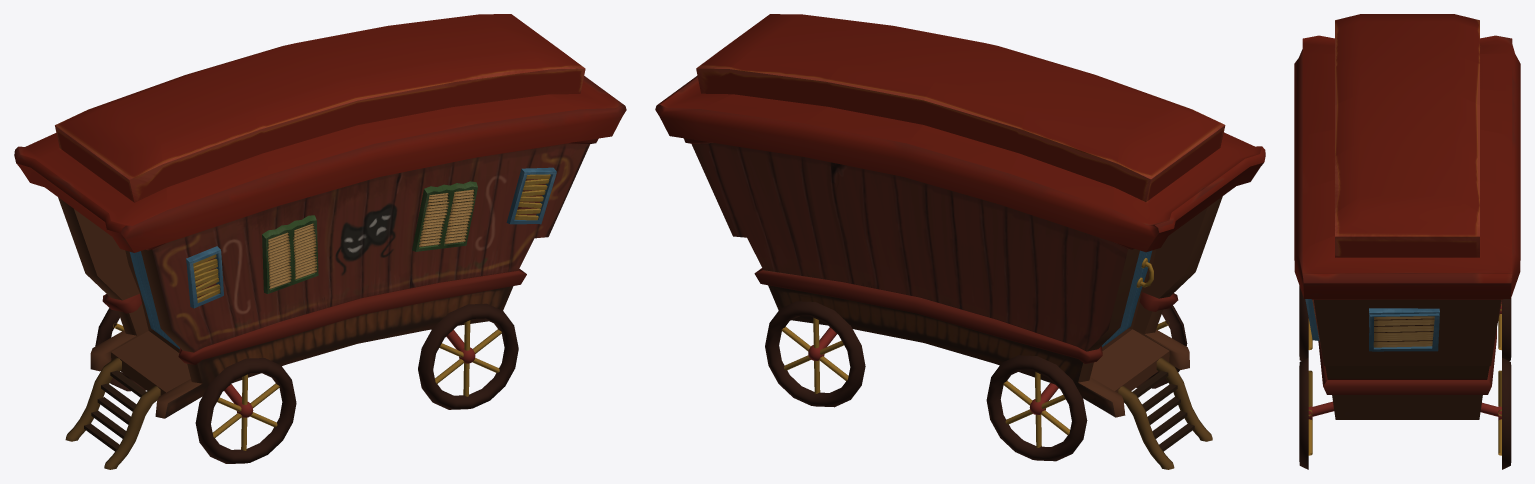
File: CircusCaravan.fbx
3 views of the same model, side by side, from view 1: azimuth 30°, elevation 25°; view 2: azimuth 150°, elevation 25°; view 3: azimuth 270°, elevation 25° (orthographic). The views are drawn at different scales.
Parts seen in each view (by area): view 1: CaravanBody, Wheel06 (×2), DoubleFrame03 (×2), Frame5 (×2), LadderLeg01, LadderLeg02, Wheel05; view 2: CaravanBody, Wheel05 (×2), LadderLeg02, LadderLeg01, Wheel06; view 3: CaravanBody, Wheel06 (×2), Wheel05 (×2), Frame6, group2_WheelBar02, Frame5.
Part boxes in pixels (x1,y1,x2,y2): CaravanBody: (14,14,626,418); Wheel06 (×2): (195,303,518,463); DoubleFrame03 (×2): (262,181,477,293); Frame5 (×2): (186,167,556,308); LadderLeg01: (104,386,160,469); LadderLeg02: (65,357,121,441); Wheel05: (95,308,146,391); CaravanBody: (655,14,1265,417); Wheel05 (×2): (765,301,1087,461); LadderLeg02: (1118,386,1174,469); LadderLeg01: (1156,358,1212,441); Wheel06: (1136,305,1187,388); CaravanBody: (1294,14,1520,419); Wheel06 (×2): (1299,286,1308,469); Wheel05 (×2): (1502,298,1511,469); Frame6: (1369,308,1439,351); group2_WheelBar02: (1312,401,1498,416); Frame5: (1305,299,1319,340).
Bounding box in the file's own units: 30.89 × 19.49 × 12.15.
